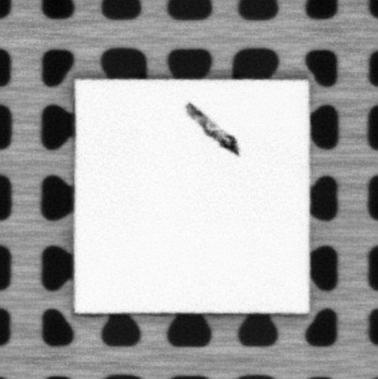DIE_INK: (184, 99, 239, 159)
